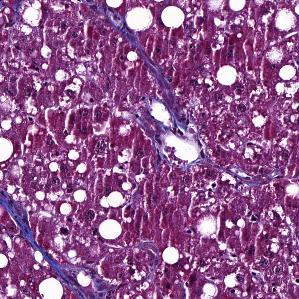fibrosis: (10, 201, 72, 278), (133, 56, 190, 137)
